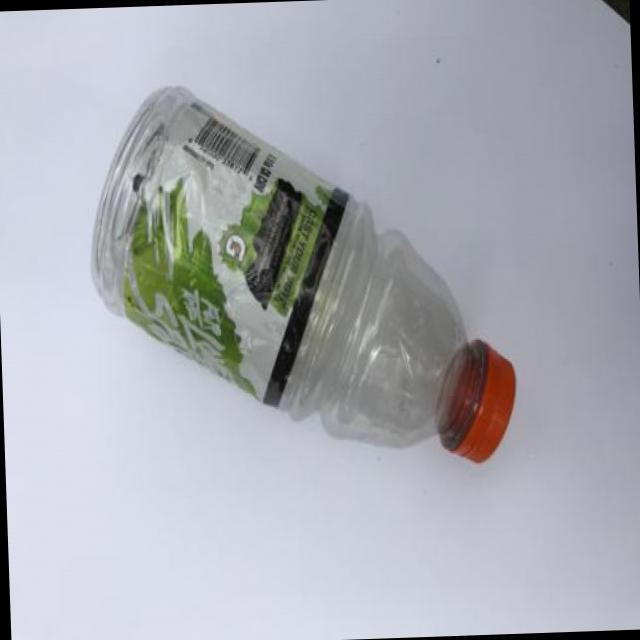Recycle: (82, 74, 520, 474)
